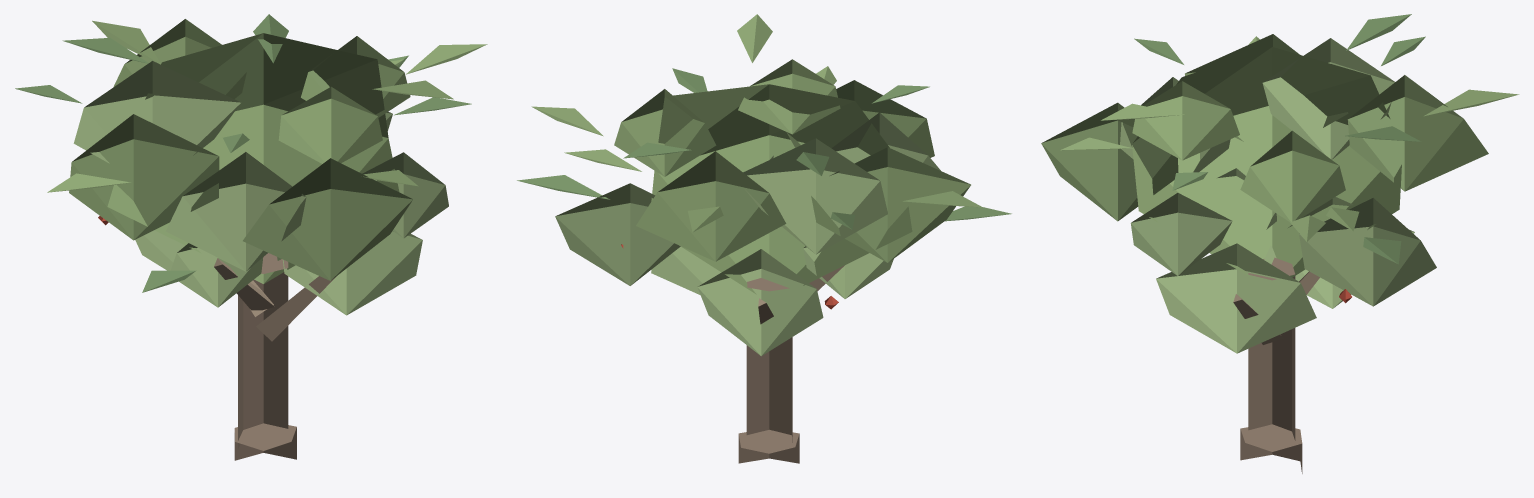
File: shu.gaoshan__summer.glb
3 renders of one model, left to right at view 1: azimuth 30°, elevation 25°; view 2: azimuth 150°, elevation 25°; view 3: azimuth 270°, elevation 25°, orthographic. The views are drawn at different scales.
Parts seen in each view (by area): view 1: shu.gaoshan__summer; view 2: shu.gaoshan__summer; view 3: shu.gaoshan__summer.
Boxes of the visible parts, left/top/right/bottom form: shu.gaoshan__summer: left=15, top=14, right=487, bottom=460; shu.gaoshan__summer: left=517, top=14, right=1011, bottom=463; shu.gaoshan__summer: left=1041, top=14, right=1519, bottom=473.
Size of the model in its own units: 15.44 by 13.09 by 14.14.
